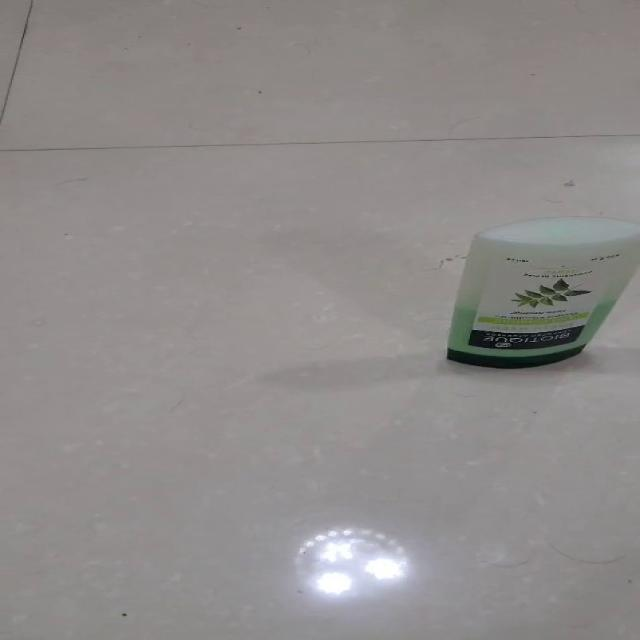plastic: (444, 215, 638, 369)
